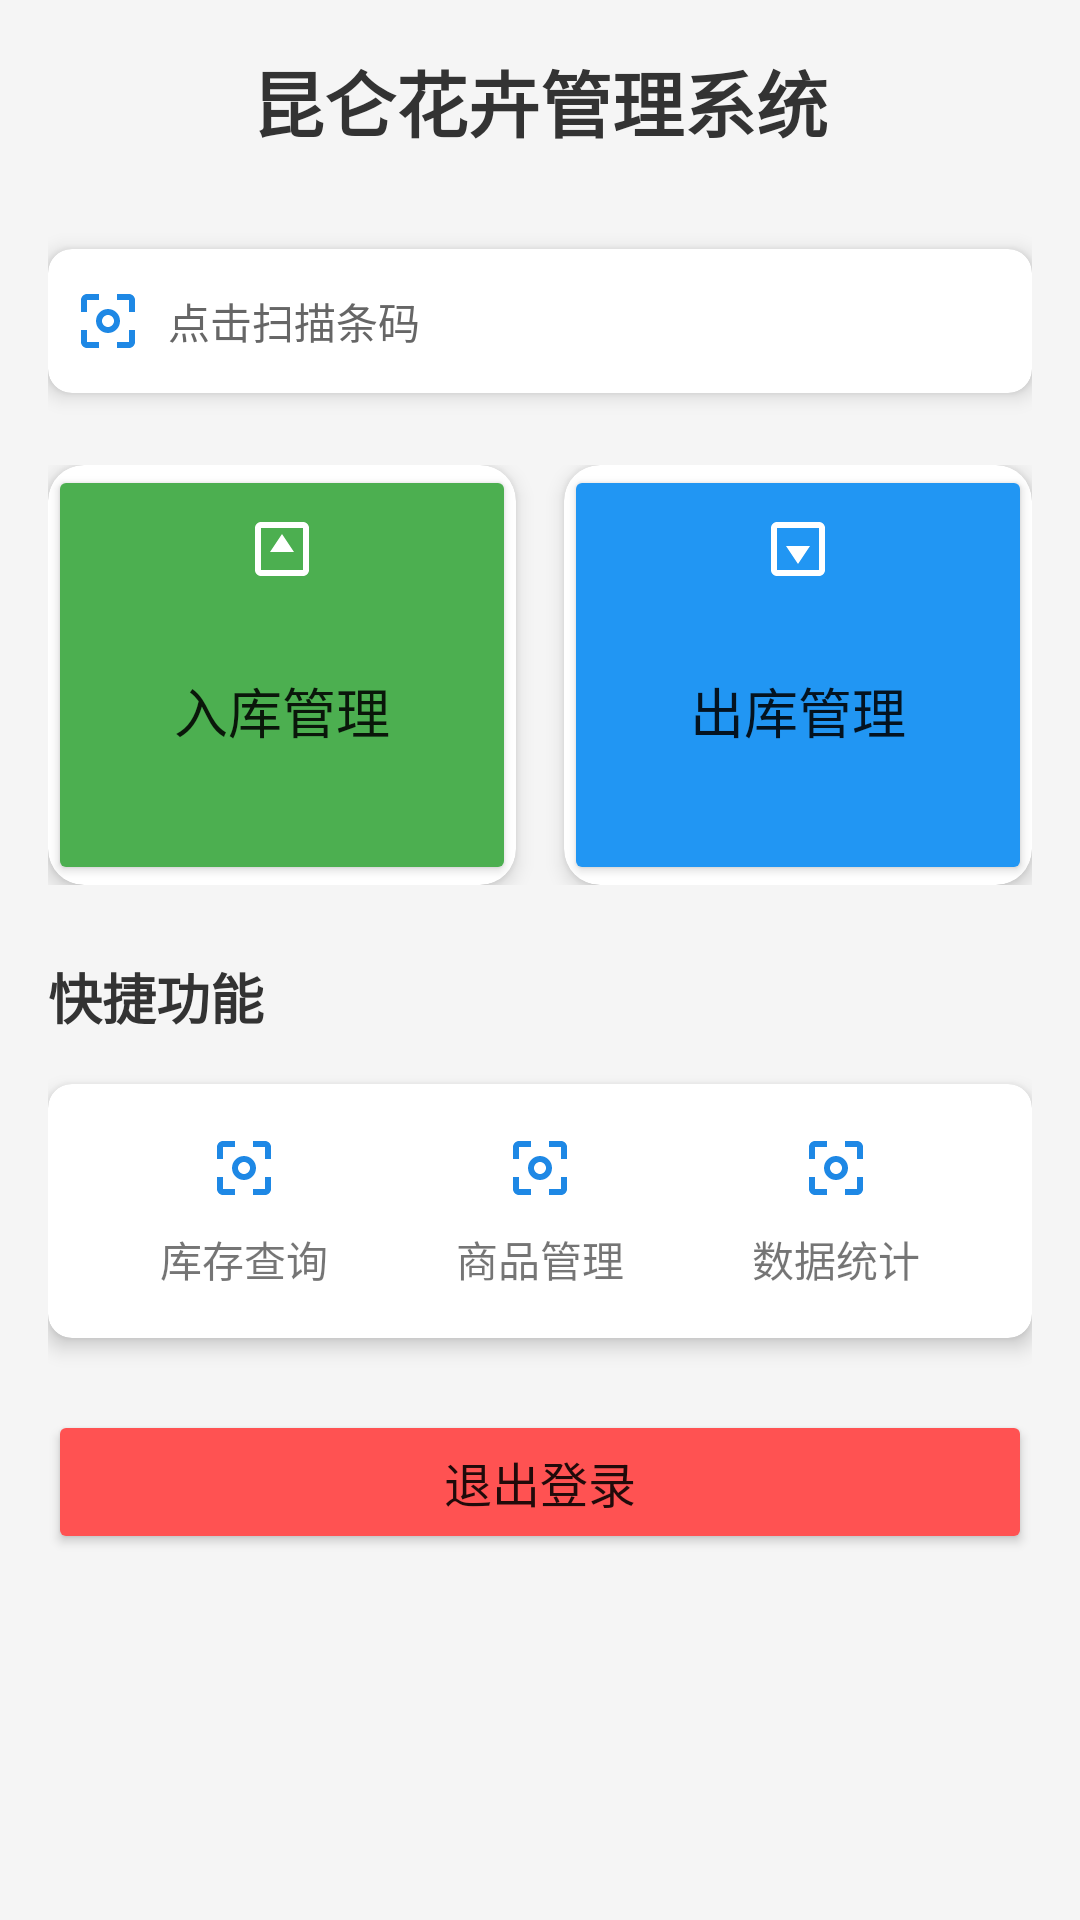

Where to tap for icons on this 1080 × 1920 app screen, as (x=x, y=y):
scan: (x=108, y=321)
